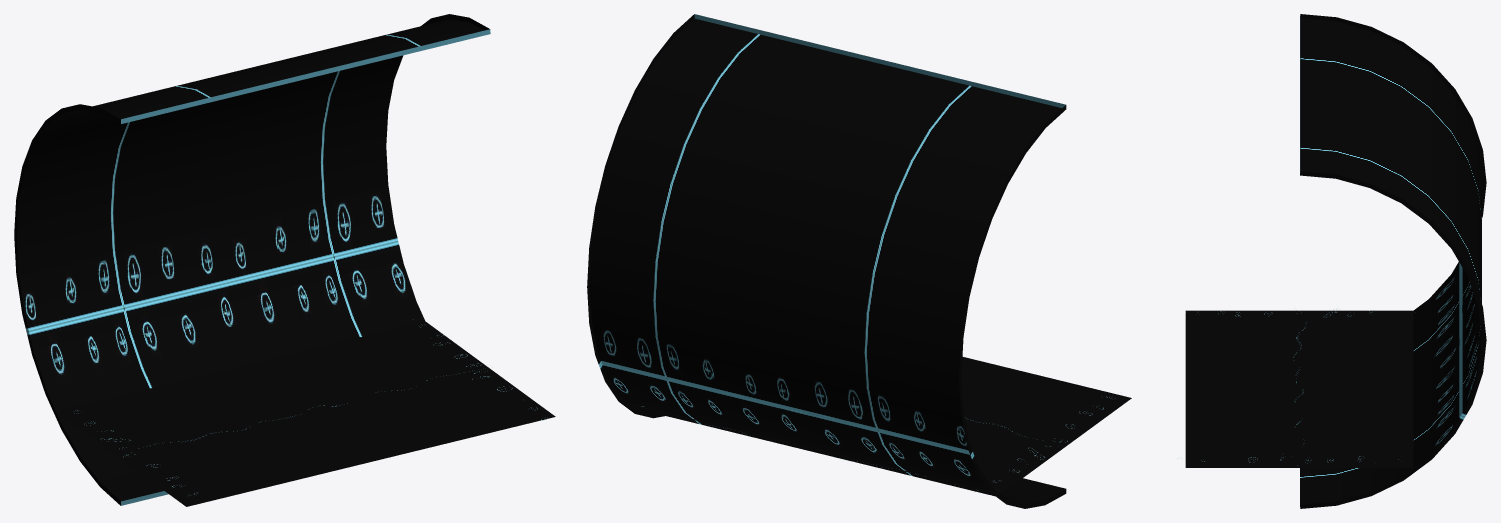
The picture shows the model from 3 angles, left to right: view 1: azimuth 30°, elevation 25°; view 2: azimuth 150°, elevation 25°; view 3: azimuth 270°, elevation 25°; orthographic projection. The views are drawn at different scales.
Parts seen in each view (by area): view 1: Cylinder, Plane_1; view 2: Cylinder, Plane_1; view 3: Cylinder, Plane_1.
Boxes of the visible parts, x1=… form: Cylinder: x1=14, y1=14, x2=490, y2=505; Plane_1: x1=56, y1=321, x2=555, y2=506; Cylinder: x1=587, y1=14, x2=1066, y2=508; Plane_1: x1=629, y1=357, x2=1131, y2=493; Cylinder: x1=1300, y1=14, x2=1486, y2=508; Plane_1: x1=1185, y1=310, x2=1413, y2=467.
Bounding box in the file's own units: 135 × 130 × 111.
Materials: 4 (2 with a texture image).
